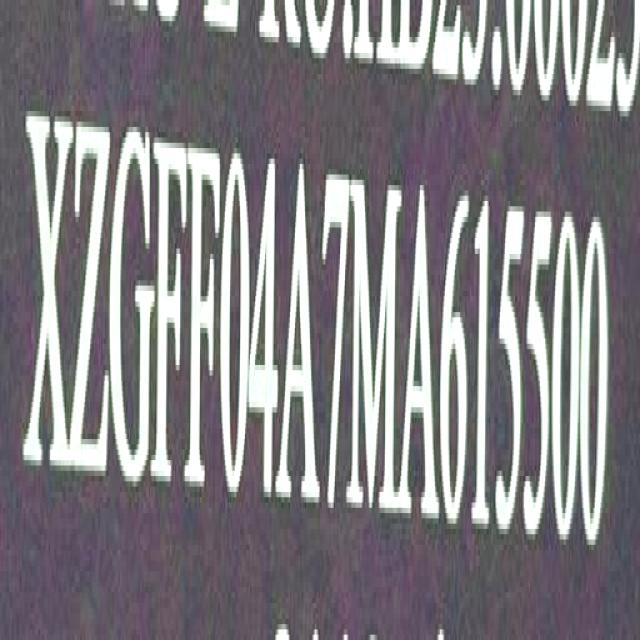0: (219, 148, 251, 506), (580, 205, 612, 548), (552, 209, 581, 552)
1: (471, 193, 492, 540)
4: (250, 145, 282, 510)
5: (524, 207, 554, 548), (497, 195, 525, 542)
6: (438, 192, 470, 532)
7: (322, 166, 354, 522)
A: (283, 162, 320, 514), (402, 185, 438, 529)
F: (188, 134, 222, 502), (155, 130, 186, 498)
G: (109, 125, 152, 486)
M: (356, 172, 401, 523)
X: (29, 108, 71, 484)
Z: (69, 115, 110, 485)
